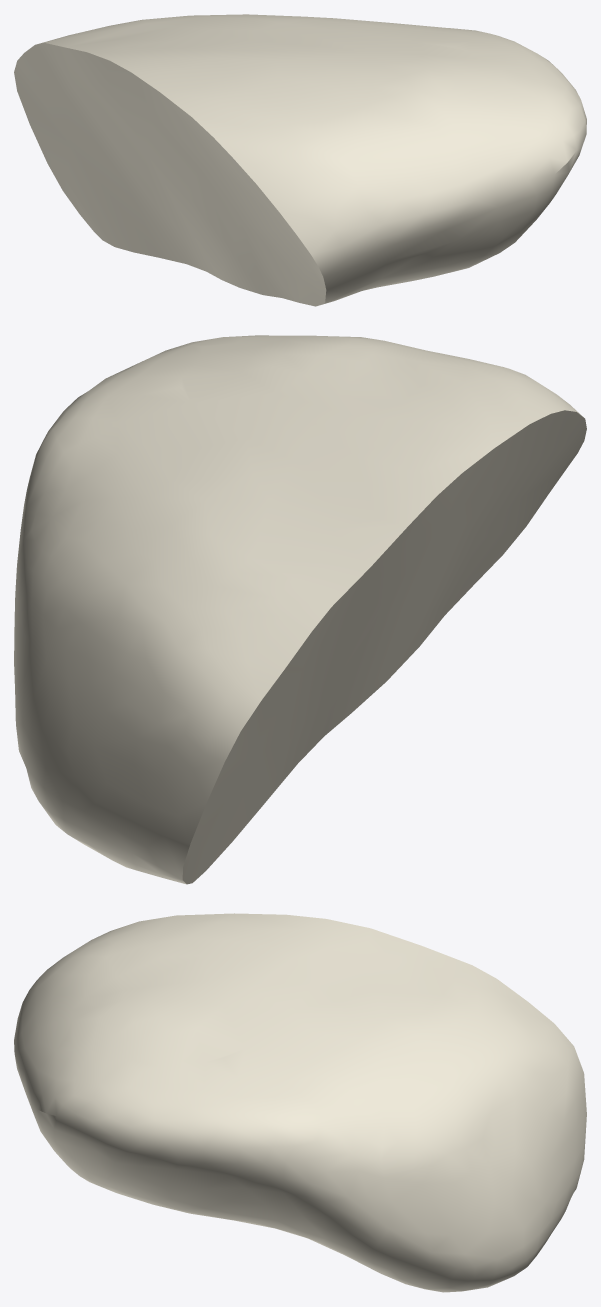
Rendered from fma23302_mm1556.glb.
The picture shows the model from 3 angles, top to bottom: view 1: azimuth 30°, elevation 25°; view 2: azimuth 150°, elevation 25°; view 3: azimuth 270°, elevation 25°; orthographic projection. The views are drawn at different scales.
Parts seen in each view (by area): view 1: FMA23302_MM1556; view 2: FMA23302_MM1556; view 3: FMA23302_MM1556.
Part boxes in pixels (x1,y1,x2,y2): FMA23302_MM1556: (14,14,586,306); FMA23302_MM1556: (14,335,586,884); FMA23302_MM1556: (14,913,586,1292).
Size of the model in its own units: 0.0185 by 0.0139 by 0.026.
